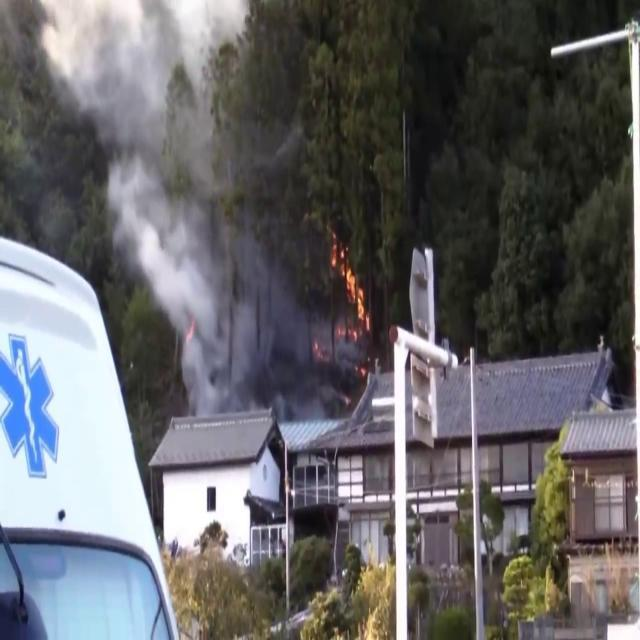Fire: (330, 238, 372, 346)
Smoke: (112, 9, 316, 458)
